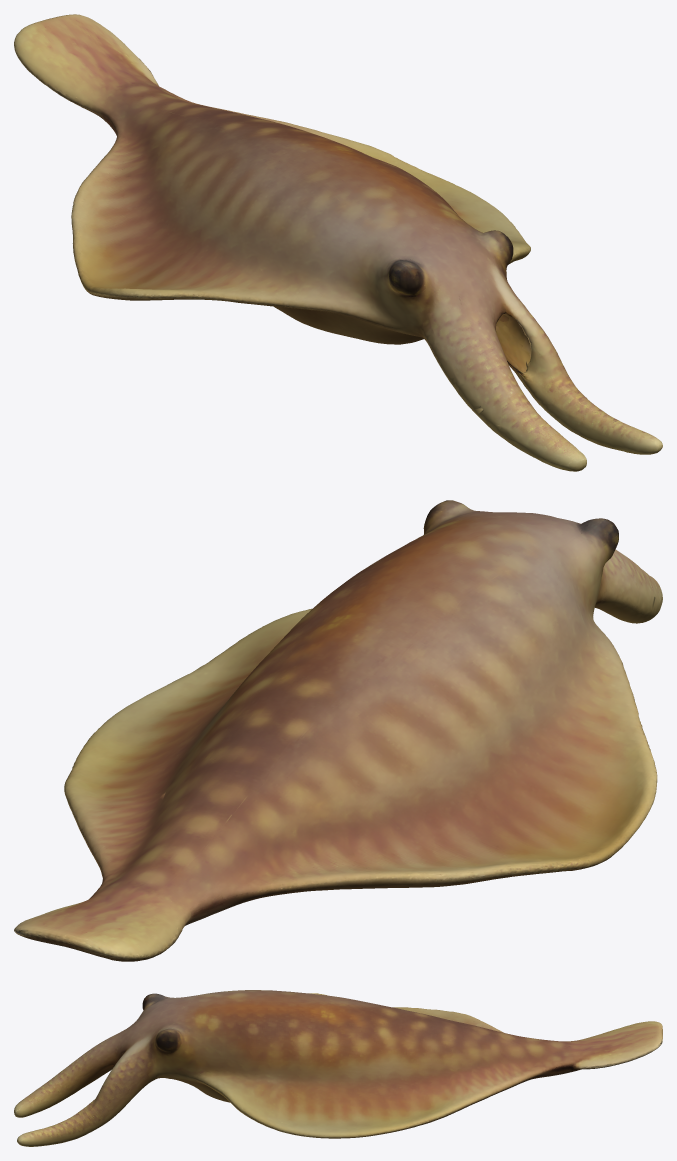
3 renders of one model, top to bottom at view 1: azimuth 30°, elevation 25°; view 2: azimuth 150°, elevation 25°; view 3: azimuth 270°, elevation 25°, orthographic. The views are drawn at different scales.
Visible parts, largest first — view 1: world; view 2: world; view 3: world.
Boxes of the visible parts, <box> form: world: <box>14,14,662,471</box>; world: <box>14,500,662,961</box>; world: <box>14,990,662,1146</box>.
Bounding box in the file's own units: 0.0281 × 0.012 × 0.06.
Materials: 1 (1 with a texture image).
